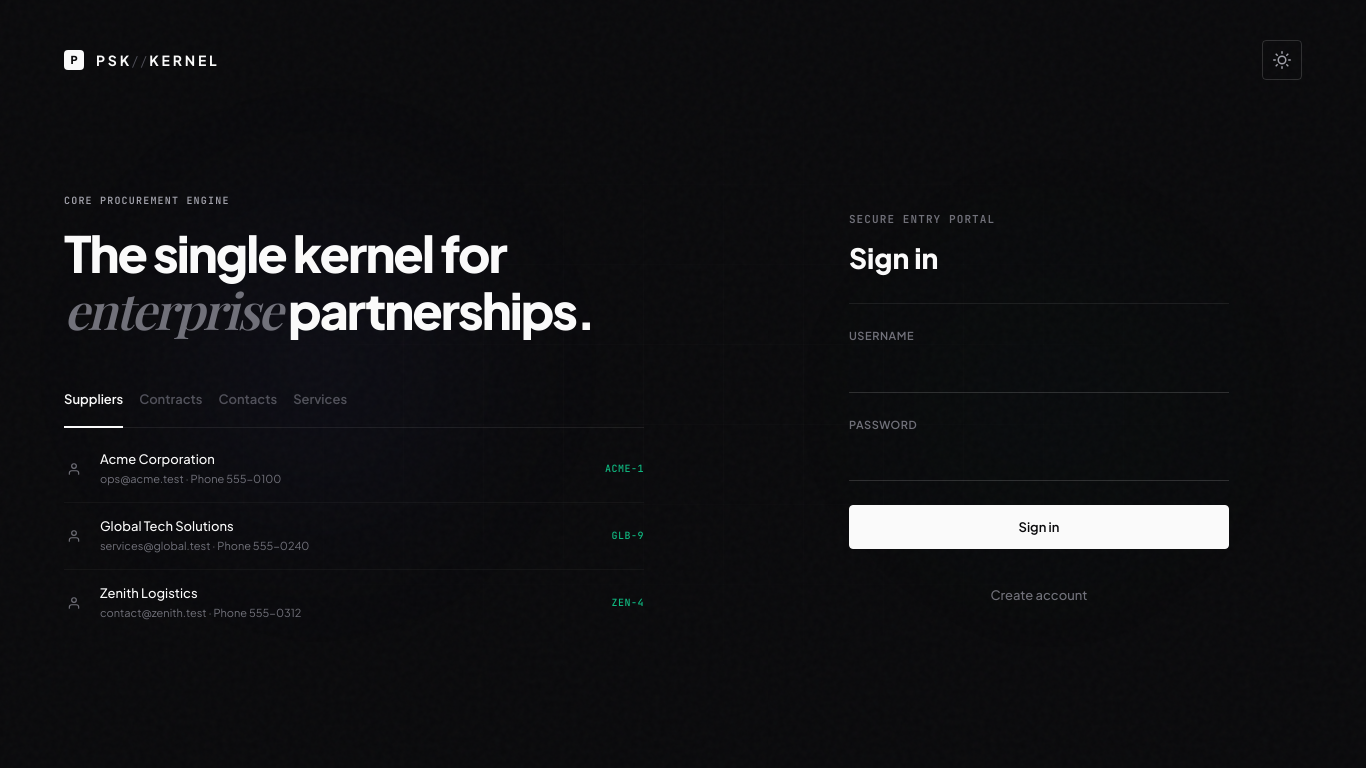
Test: App › shows authentication errors without entering the dashboard
Type "ada" into the field labelled "Username" at (1039, 373), box [849,353,1229,393]
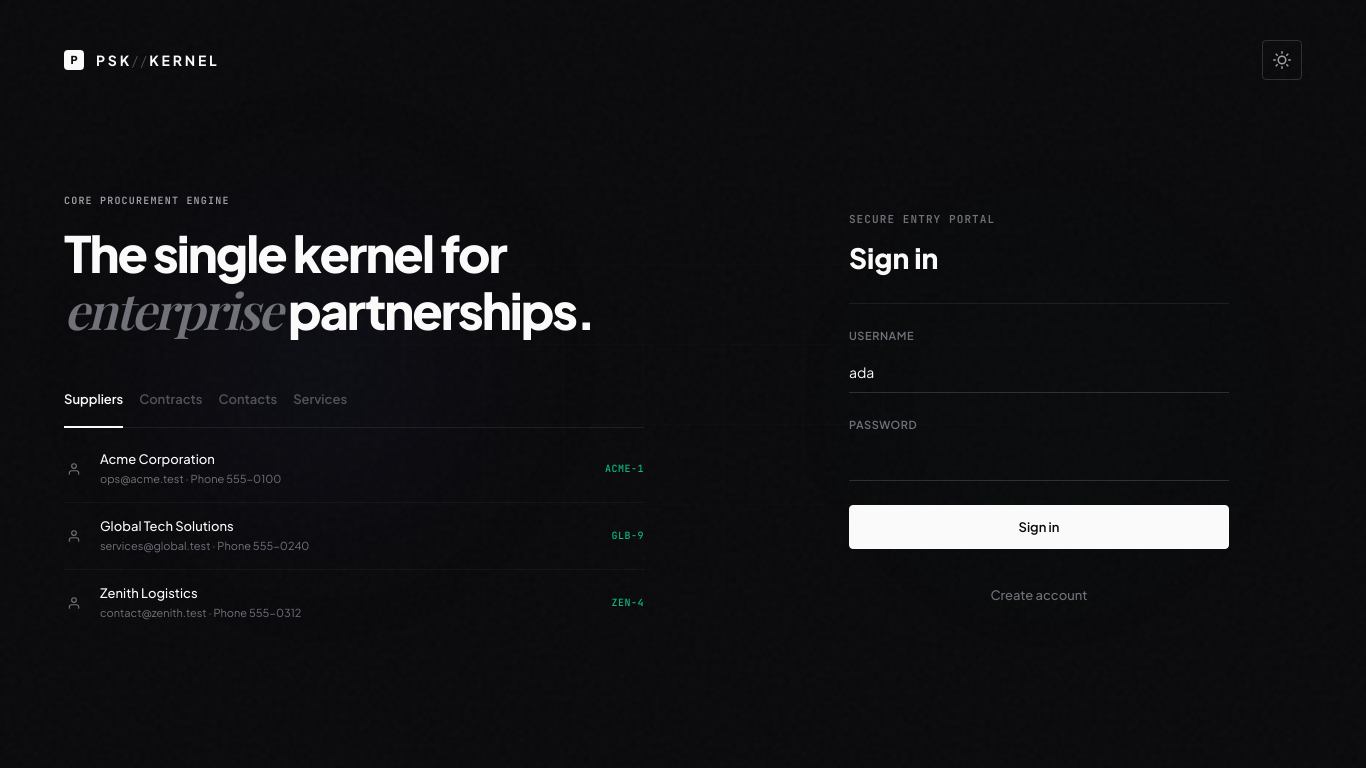
Type "wrong" into the password field labelled "Password" at (1039, 461), box [849,441,1229,481]
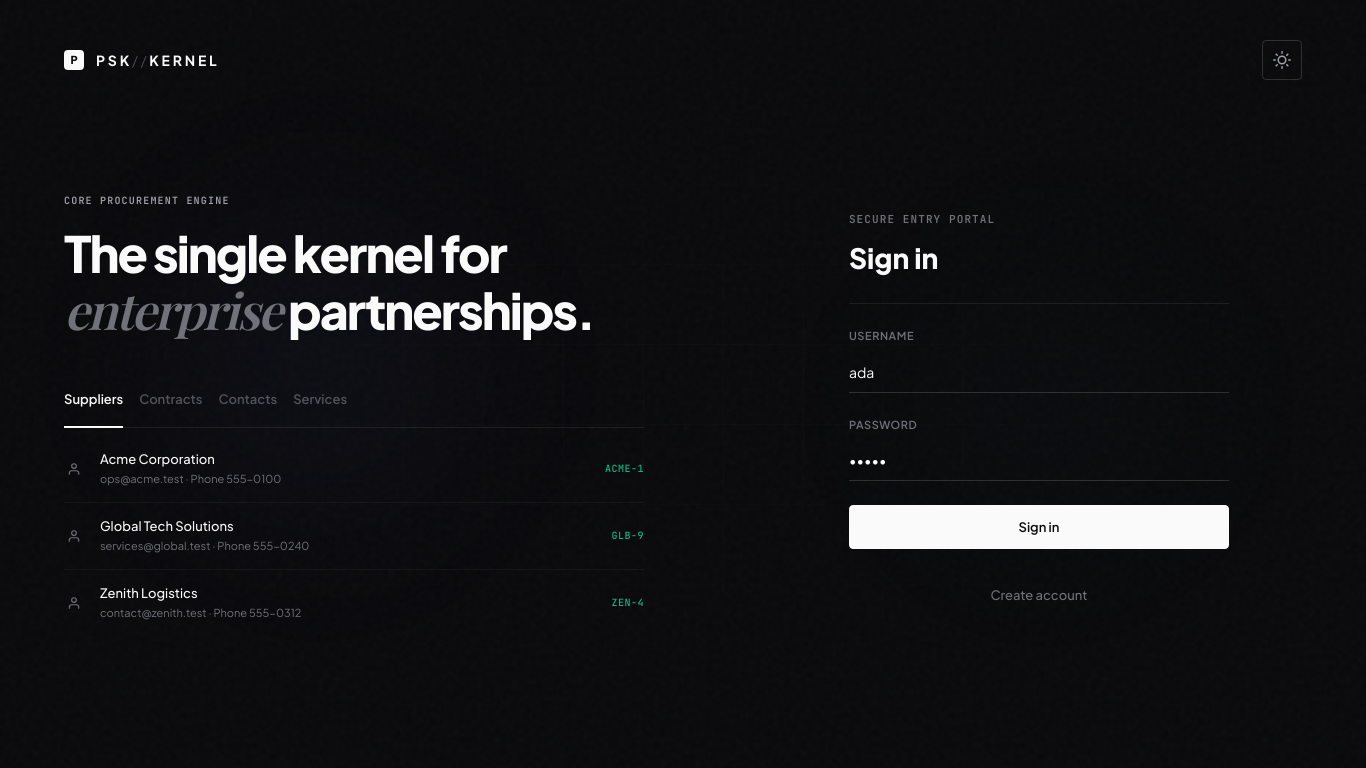
Click the button "Sign in" at (1039, 527), box [849,505,1229,549]
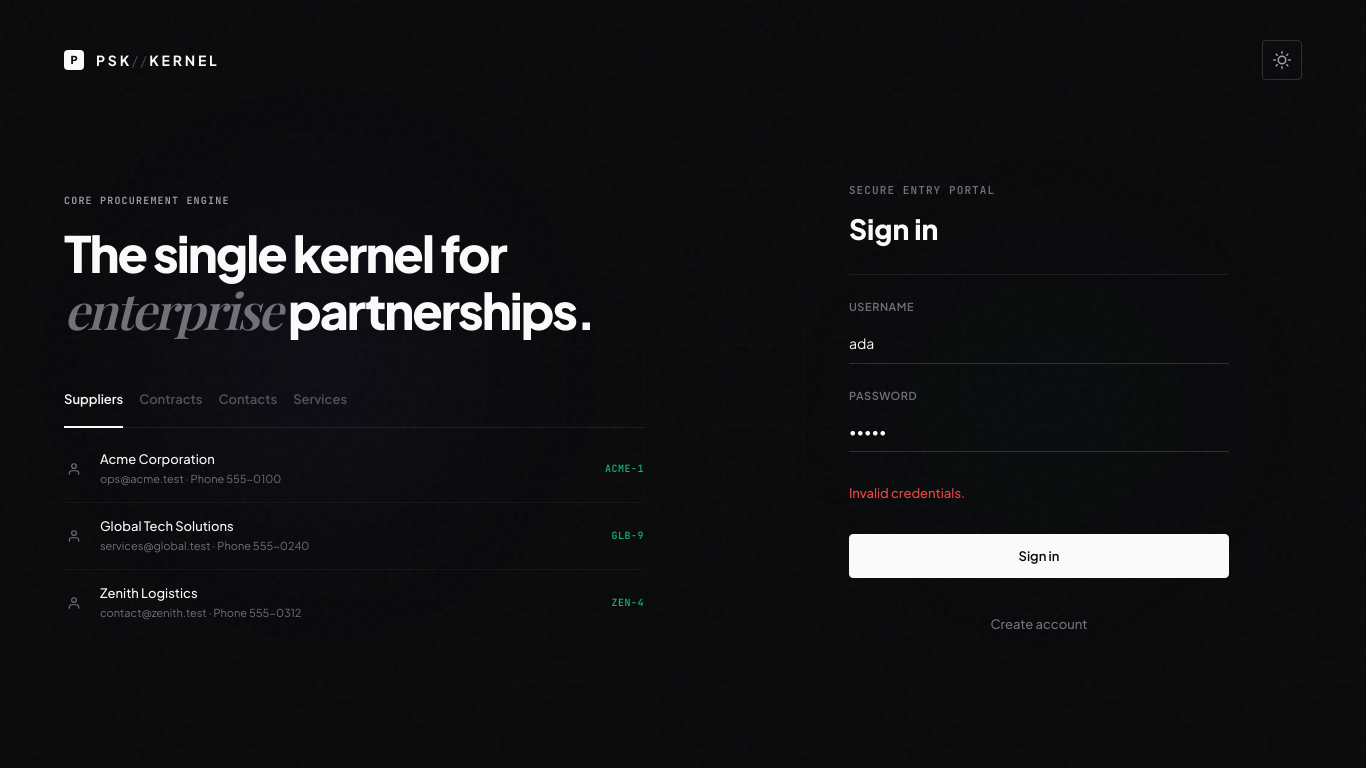
Expected: the text "Invalid credentials." is shown, [849,485,965,501]
